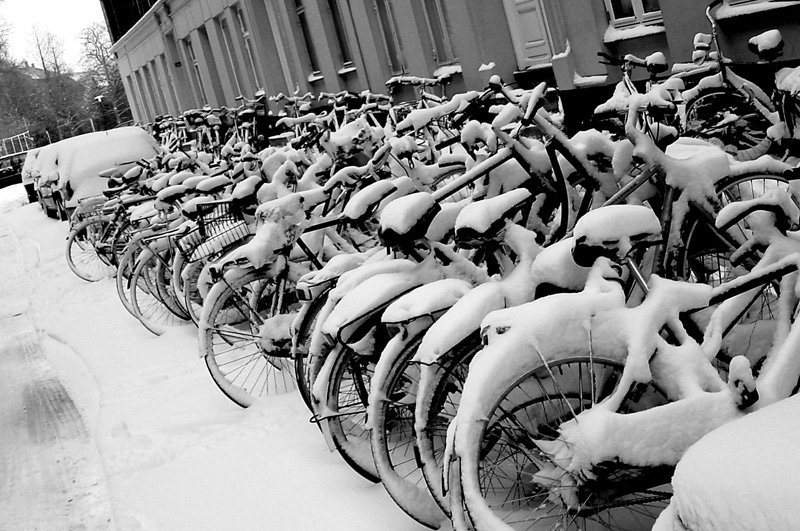Bicycle: (14, 19, 759, 531)
